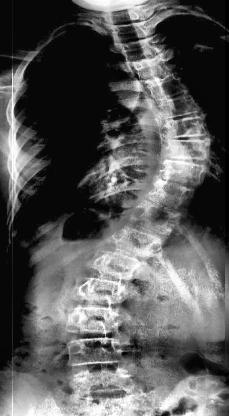Vertebrae: (126, 195, 186, 237), (102, 222, 162, 262), (84, 245, 142, 283), (64, 306, 130, 338), (66, 335, 128, 369), (69, 272, 129, 306), (118, 51, 176, 83), (141, 176, 195, 210), (156, 136, 216, 166), (155, 156, 209, 188), (135, 72, 191, 102), (146, 94, 206, 122), (153, 112, 213, 140), (115, 34, 167, 62), (106, 16, 154, 43)
